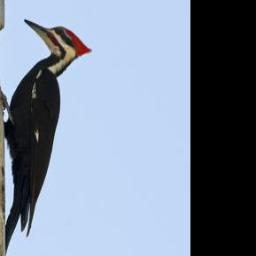Woodpecker: (2, 16, 95, 236)
